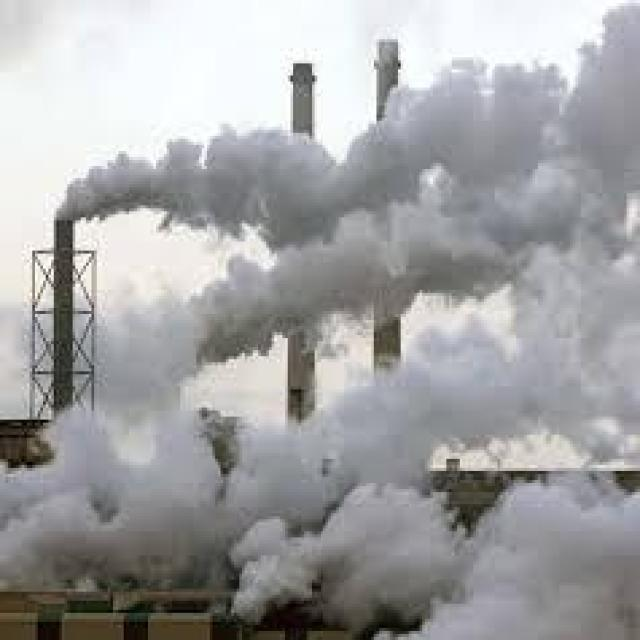Smoke: (54, 26, 640, 464), (225, 483, 640, 639), (16, 400, 220, 601)
